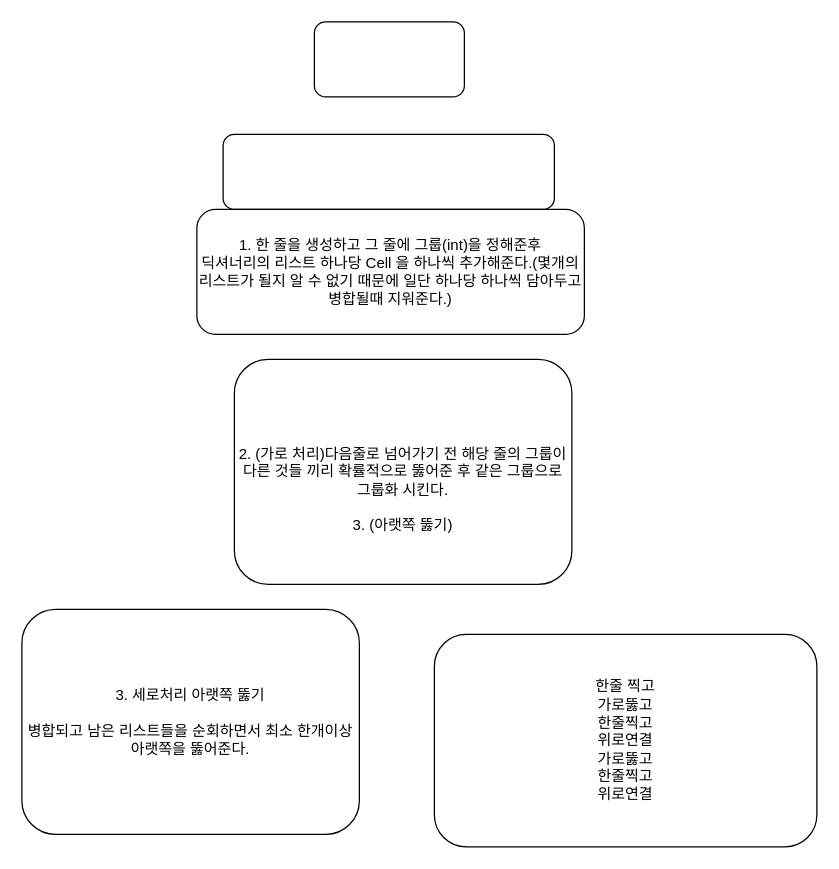
This 839x869 diagram has some shape labels left out. The shapes that lost their labels are listed below. From the top down, each one's box as (x1, y1, x2, y2) in pixels, then its label:
(313, 21, 464, 97): Eller's Maze 미로생성 알고리즘
(222, 133, 554, 209): 사용 자료구조 Dictionary<int, List<EllerCell>>
